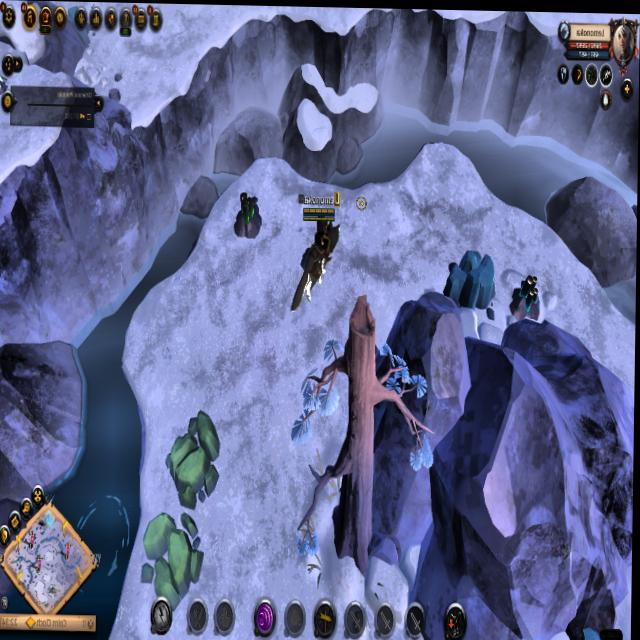ore tier 3: (235, 186, 263, 243)
ore tier 4: (511, 270, 543, 322)
rock tier 3: (165, 404, 222, 513), (141, 509, 205, 596)
rock tier 4: (444, 244, 499, 311)
